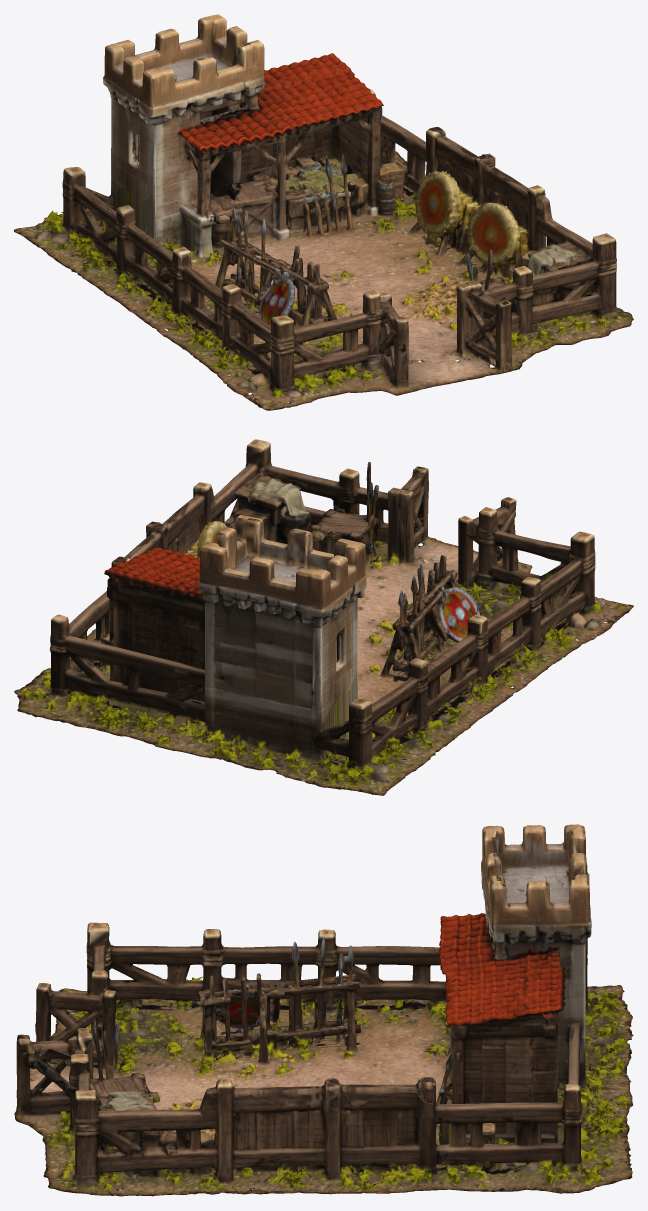
Rendered from SM_CampoMilicias.fbx.
3 views of the same model, one above another, from view 1: azimuth 30°, elevation 25°; view 2: azimuth 150°, elevation 25°; view 3: azimuth 270°, elevation 25° (orthographic). The views are drawn at different scales.
Visible parts, largest first — view 1: SM_CampoMilicias; view 2: SM_CampoMilicias; view 3: SM_CampoMilicias.
Part boxes in pixels (x1,y1,x2,y2): SM_CampoMilicias: (14, 14, 633, 410); SM_CampoMilicias: (14, 439, 633, 795); SM_CampoMilicias: (14, 824, 633, 1196).
Bounding box in the file's own units: 79.89 × 37.95 × 99.82.
1 material, 1 textured.
